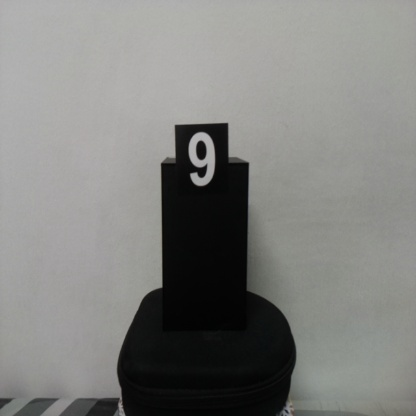id_9: (176, 126, 229, 208)
